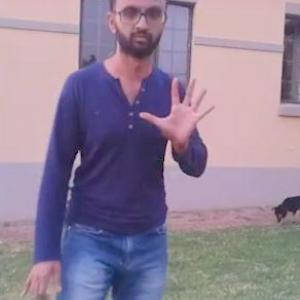follow_hand: (137, 71, 221, 150)
